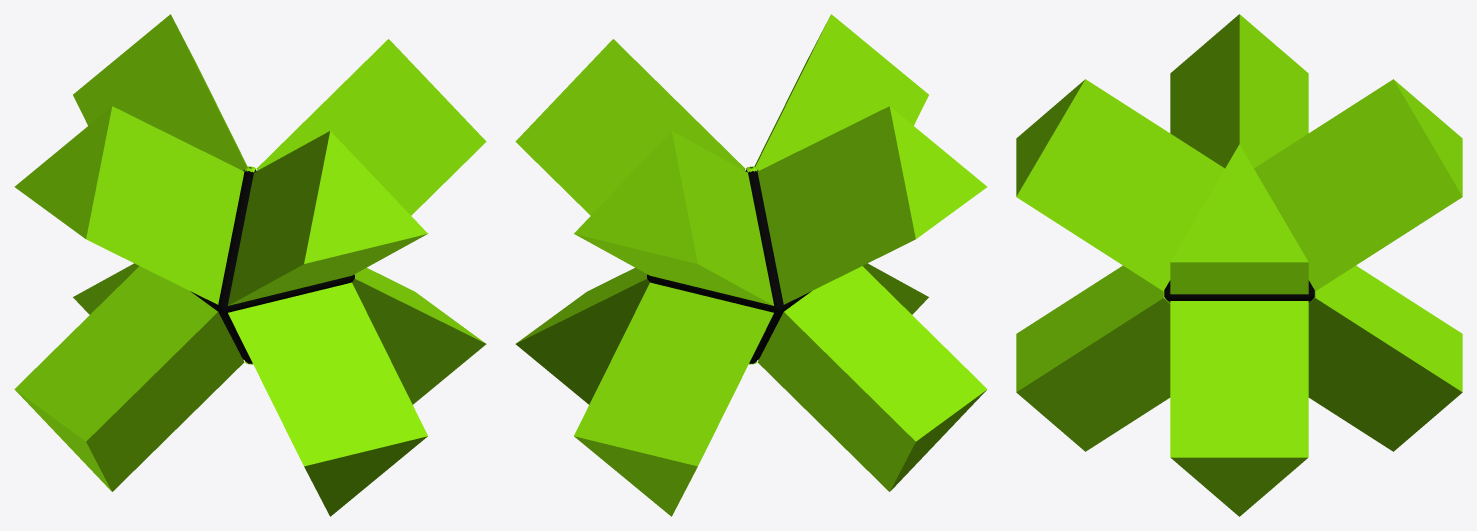
3 views of the same model, side by side, from view 1: azimuth 30°, elevation 25°; view 2: azimuth 150°, elevation 25°; view 3: azimuth 270°, elevation 25° (orthographic). The views are drawn at different scales.
Visible parts, largest first — view 1: five, seven, eight, six, four, two, one, Dice, three; view 2: five, three, eight, two, four, six, one, Dice, seven; view 3: one, two, six, seven, three, eight, four, Dice.
Part boxes in pixels (box(x1,y1,x2,y2)): five: box(14, 167, 251, 491); seven: box(228, 168, 427, 516); eight: box(14, 106, 250, 364); six: box(228, 131, 427, 364); four: box(256, 39, 486, 215); two: box(73, 14, 247, 170); one: box(251, 166, 486, 404); Dice: box(190, 167, 354, 363); three: box(73, 166, 250, 359); five: box(750, 167, 987, 491); three: box(574, 168, 773, 516); eight: box(751, 106, 987, 364); two: box(574, 131, 773, 364); four: box(515, 39, 745, 215); six: box(754, 14, 928, 170); one: box(515, 166, 750, 404); Dice: box(647, 167, 811, 363); seven: box(751, 166, 928, 359); one: box(1170, 301, 1308, 516); two: box(1254, 79, 1462, 291); six: box(1016, 79, 1224, 291); seven: box(1016, 265, 1170, 451); three: box(1308, 265, 1462, 451); eight: box(1170, 14, 1308, 168); four: box(1170, 144, 1308, 294); Dice: box(1164, 280, 1314, 302).
Size of the model in its own units: 30.78 by 28.36 by 30.78.
